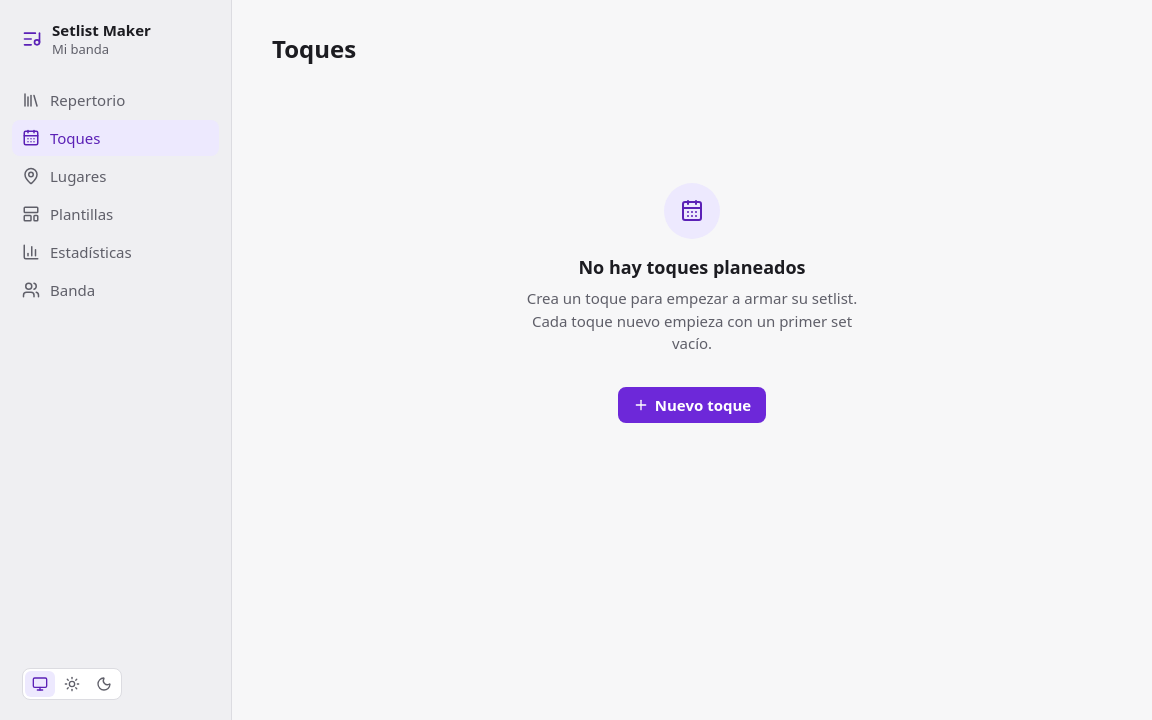
Test: renaming the band › renames it from the sidebar, saving it and showing it straight away
Click the button "Mi banda": (89, 49) top-left (48, 40), bottom-right (129, 58)
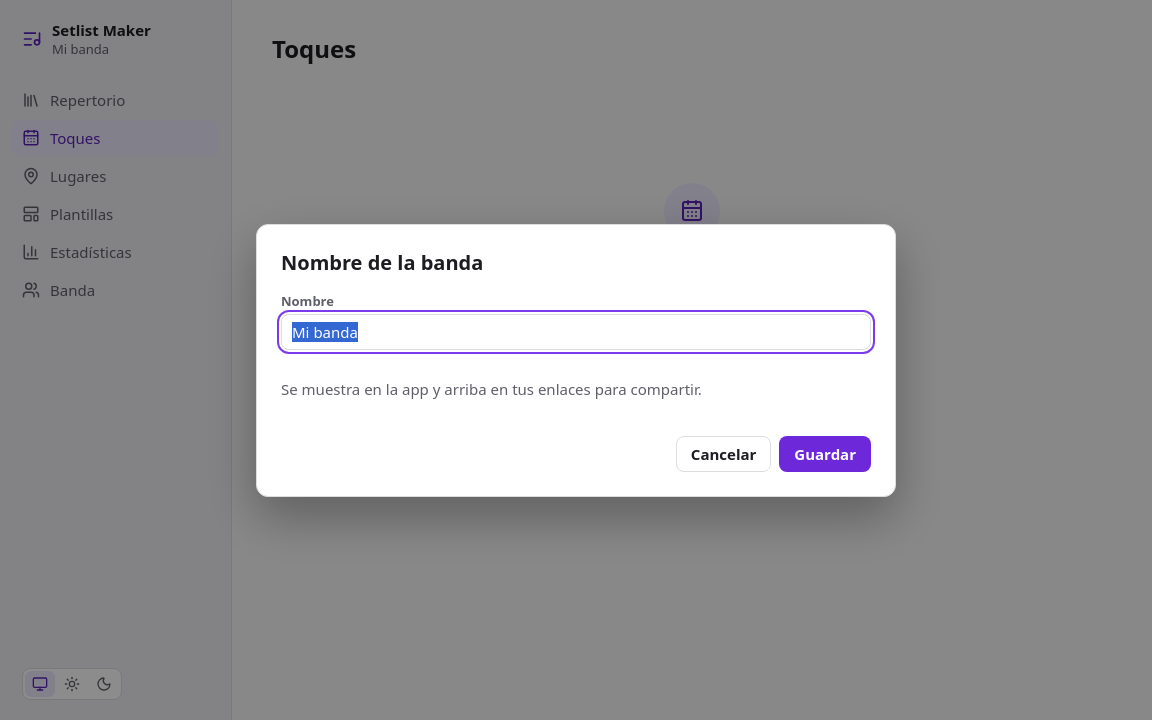
Replace the text in the field labelled "Nombre" with "  The Rock House  ": (576, 332) top-left (281, 314), bottom-right (871, 350)
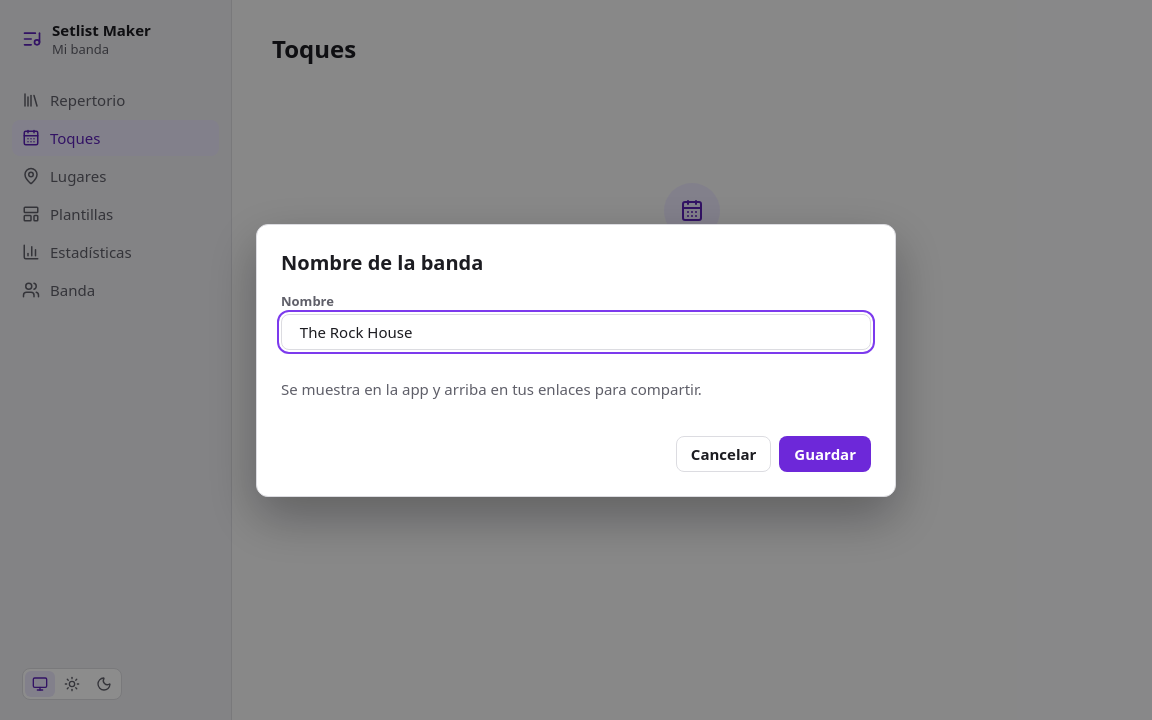
Click the button "Guardar": (825, 454) top-left (779, 436), bottom-right (871, 472)
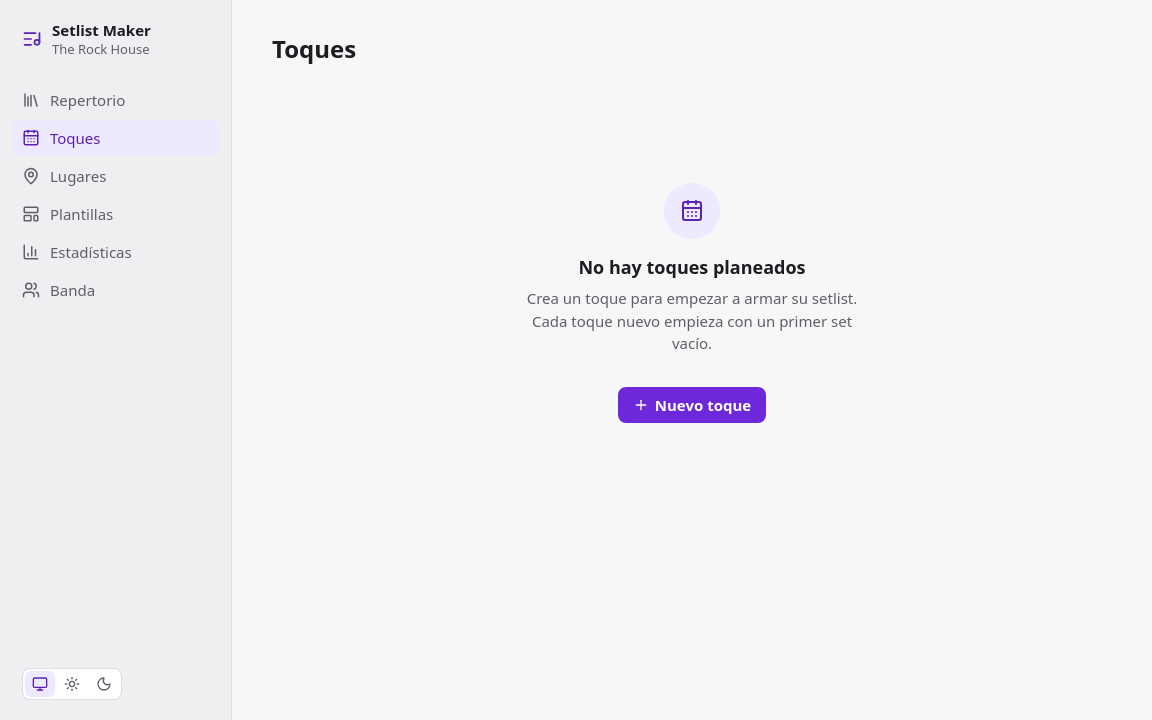
Now the button with aria-label "Banda: The Rock House. Cambiar nombre" is shown, box top-left (48, 40), bottom-right (170, 58)
Now the dialog is gone
